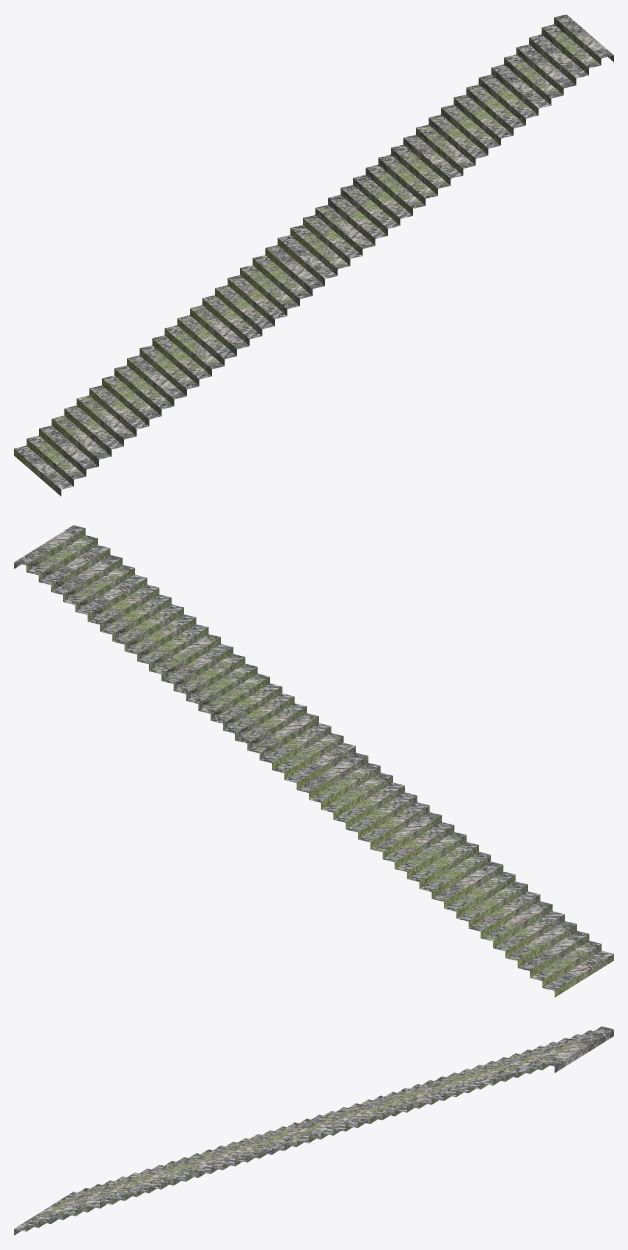
File: MountainRoad.FBX
3 renders of one model, top to bottom at view 1: azimuth 30°, elevation 25°; view 2: azimuth 150°, elevation 25°; view 3: azimuth 330°, elevation 25°, orthographic.
Visible parts, largest first — view 1: MountainRoad; view 2: MountainRoad; view 3: MountainRoad.
Part boxes in pixels (x1,y1,x2,y2): MountainRoad: [14, 14, 613, 496]; MountainRoad: [14, 525, 613, 997]; MountainRoad: [14, 1026, 613, 1235].
Size of the model in its own units: 266 by 140 by 45.57.
1 material, 1 textured.
